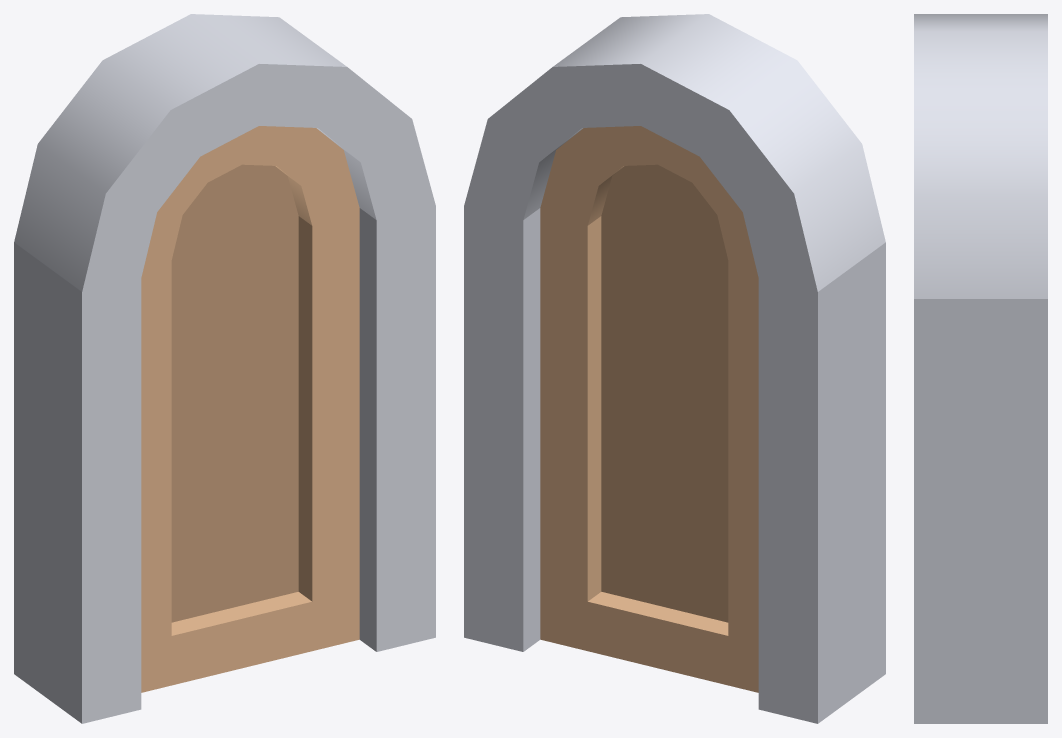
File: door.glb
The picture shows the model from 3 angles, left to right: view 1: azimuth 30°, elevation 25°; view 2: azimuth 150°, elevation 25°; view 3: azimuth 270°, elevation 25°; orthographic projection.
Parts seen in each view (by area): view 1: doorClosed; view 2: doorClosed; view 3: doorClosed.
Part boxes in pixels (box(x1,y1,x2,y2)): doorClosed: box(14, 14, 435, 723); doorClosed: box(464, 14, 885, 723); doorClosed: box(914, 14, 1047, 723).
Bounding box in the file's own units: 6 × 10 × 2.
